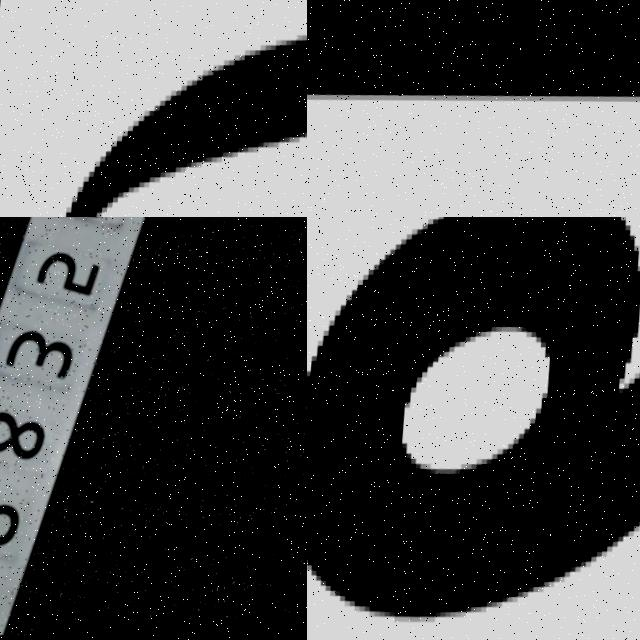0: (38, 217, 141, 246)
3: (0, 318, 92, 407)
5: (21, 244, 115, 322)
6: (307, 217, 640, 640)
8: (0, 401, 64, 488), (0, 479, 40, 574)
L: (307, 0, 640, 207)
O: (62, 34, 307, 217)
